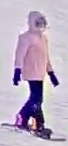snowboarder: (1, 11, 67, 142)
